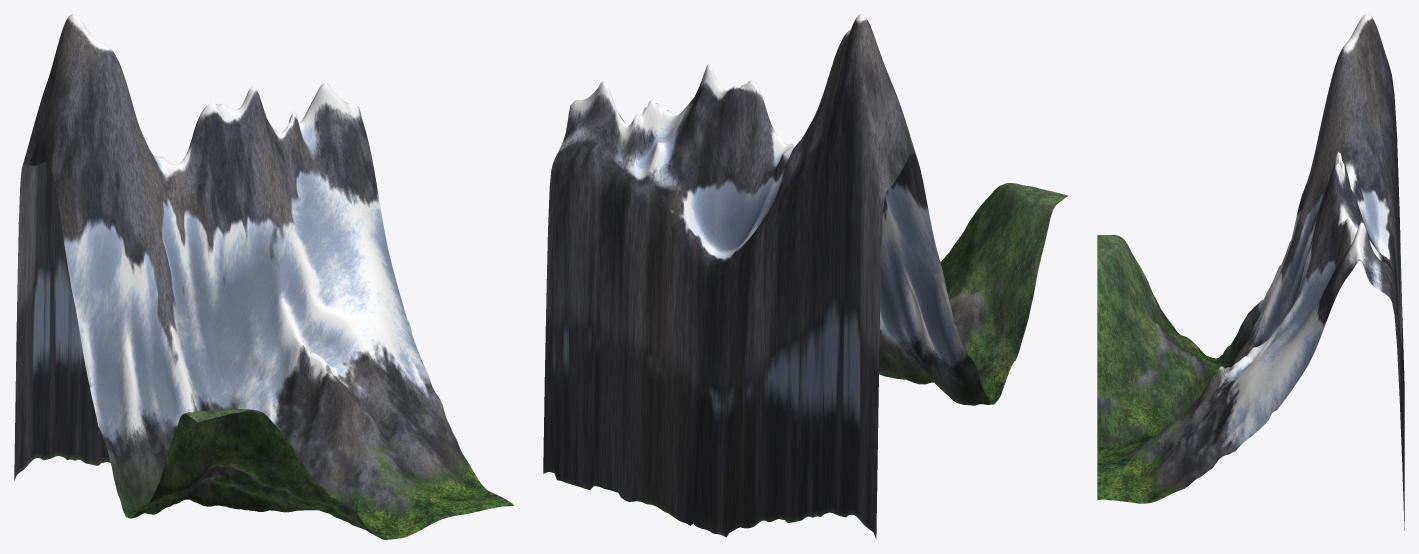
3 renders of one model, left to right at view 1: azimuth 30°, elevation 25°; view 2: azimuth 150°, elevation 25°; view 3: azimuth 270°, elevation 25°, orthographic. The views are drawn at different scales.
Parts seen in each view (by area): view 1: t128_192; view 2: t128_192; view 3: t128_192.
Boxes of the visible parts, left/top/right/bottom form: t128_192: left=14, top=14, right=514, bottom=539; t128_192: left=543, top=14, right=1068, bottom=538; t128_192: left=1097, top=14, right=1404, bottom=530.
Size of the model in its own units: 64 by 97.87 by 64.
1 material, 1 textured.
